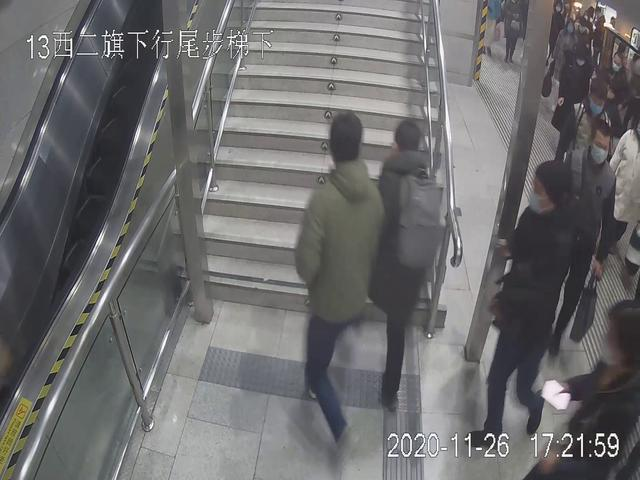person: (290, 107, 378, 456), (462, 160, 566, 443), (369, 120, 439, 414), (539, 127, 613, 350)
